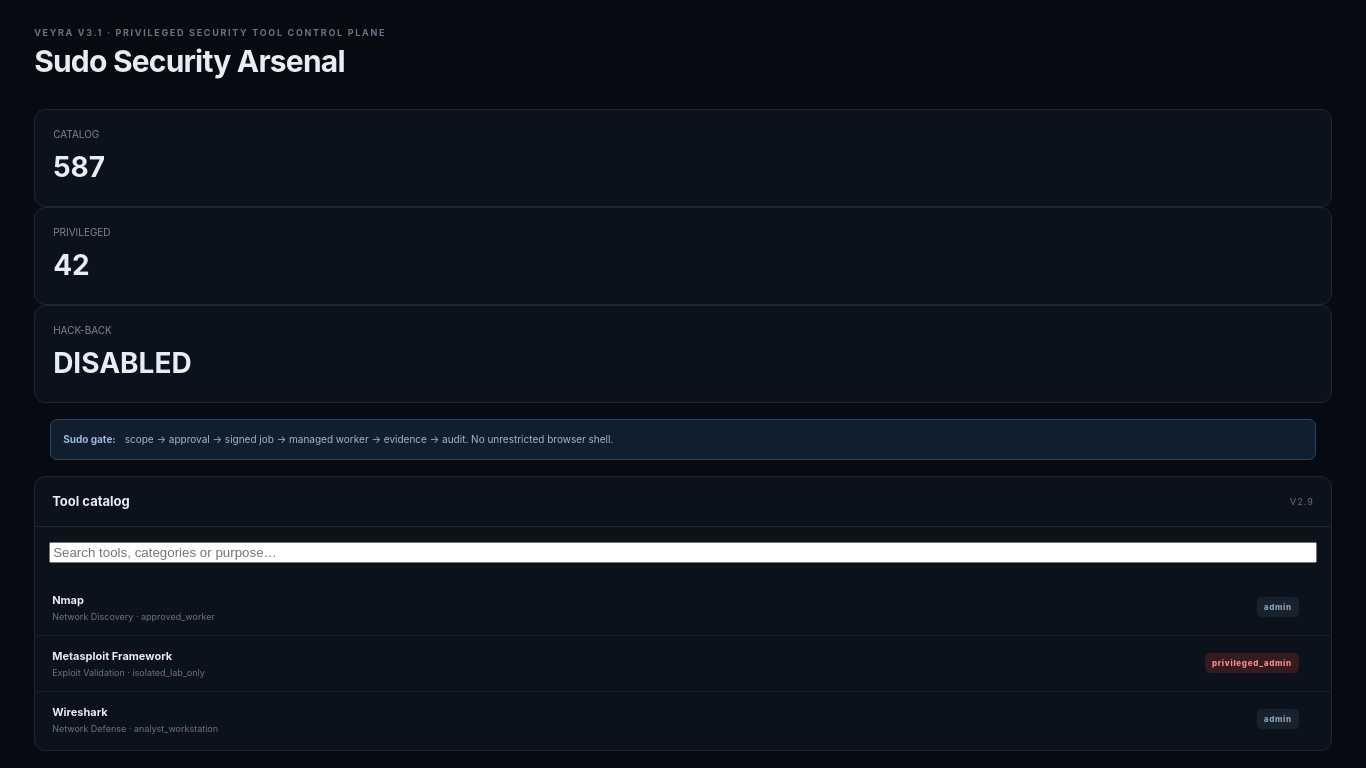
V31SudoArsenalView › filters tool list via the search input
This screenshot has width=1366, height=768.
Expected: the text "Nmap" is shown, [52,593,84,607]
Type "metasploit" into the field with placeholder "Search tools, categories or purpose…" at x=683, y=552, box [49,542,1317,563]
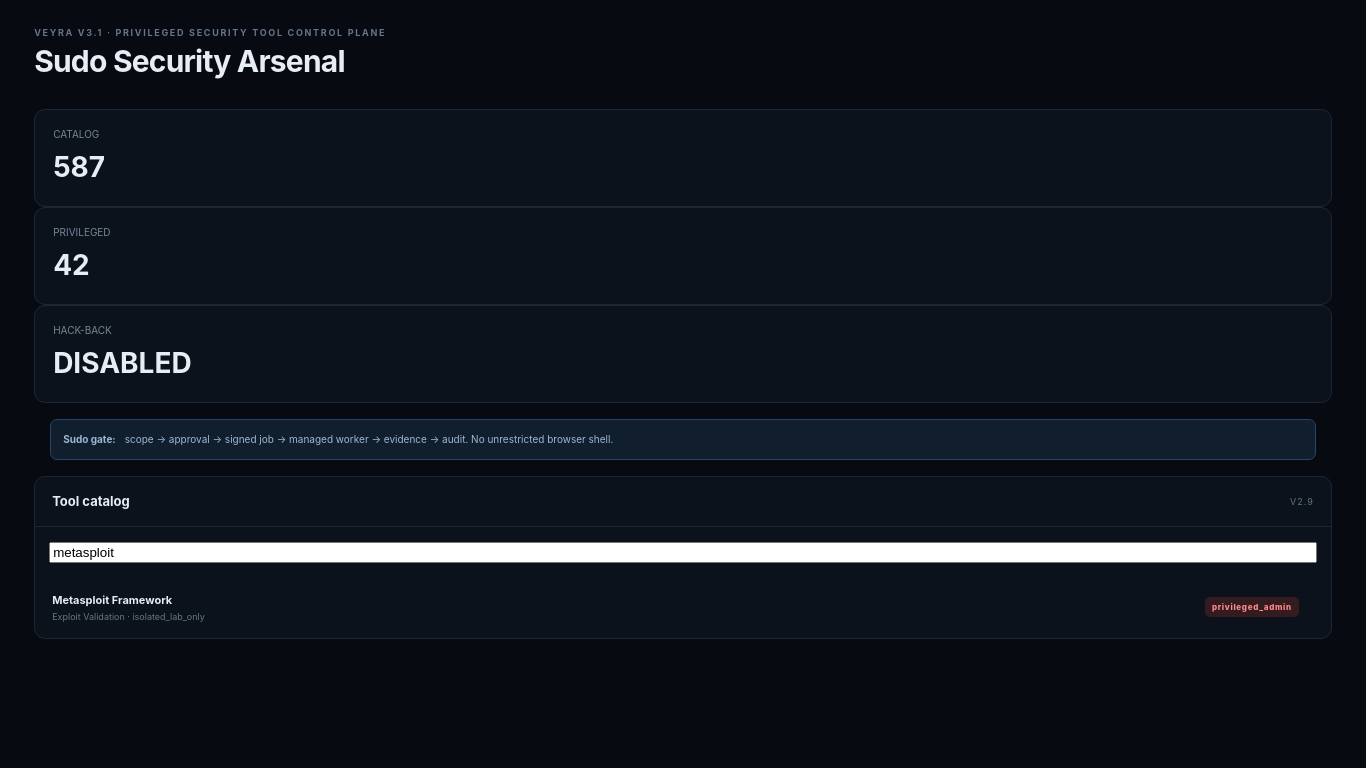
Expected: the text "Metasploit Framework" is shown, [52,593,172,607]
Expected: the text "Nmap" is gone
